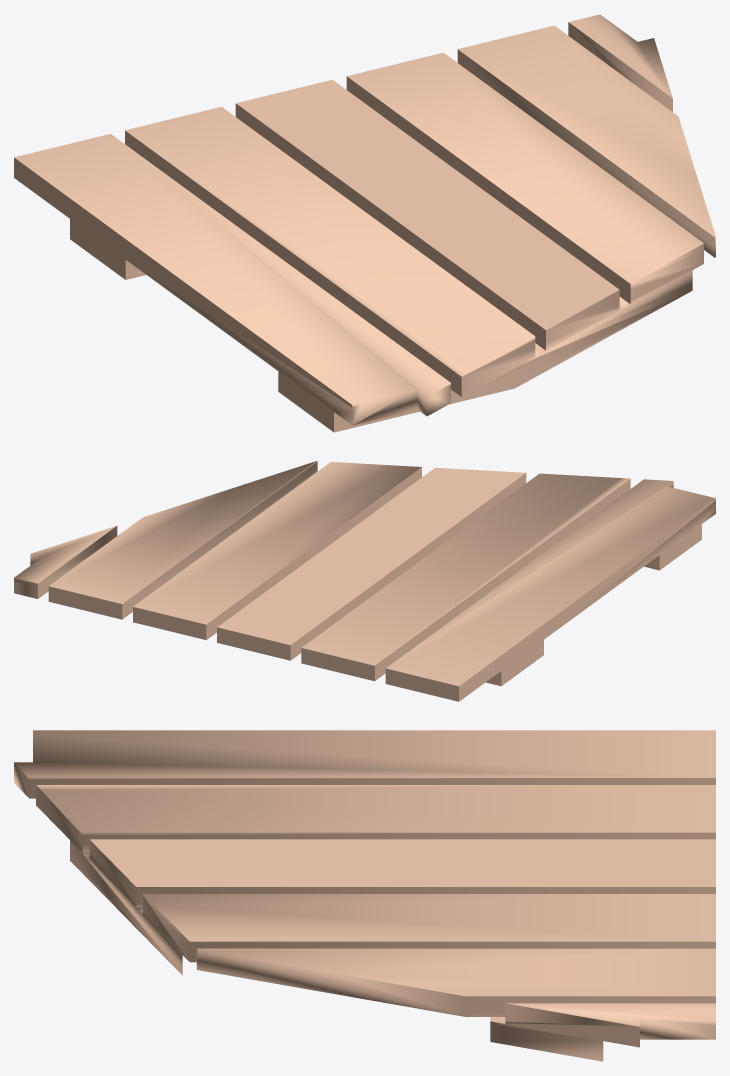
Rendered from planks_corner.fbx.
3 views of the same model, one above another, from view 1: azimuth 30°, elevation 25°; view 2: azimuth 150°, elevation 25°; view 3: azimuth 270°, elevation 25° (orthographic). The views are drawn at different scales.
Visible parts, largest first — view 1: planks; view 2: planks; view 3: planks.
Part boxes in pixels (left/top/right/bottom): planks: left=14, top=14, right=715, bottom=432; planks: left=14, top=461, right=715, bottom=701; planks: left=14, top=730, right=715, bottom=1061.
Size of the model in its own units: 92.5 by 6 by 92.5.
